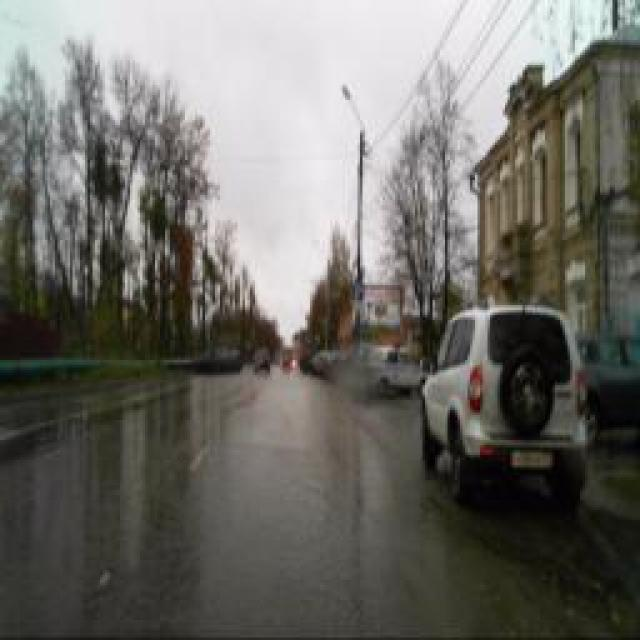sign: (352, 281, 362, 301)
